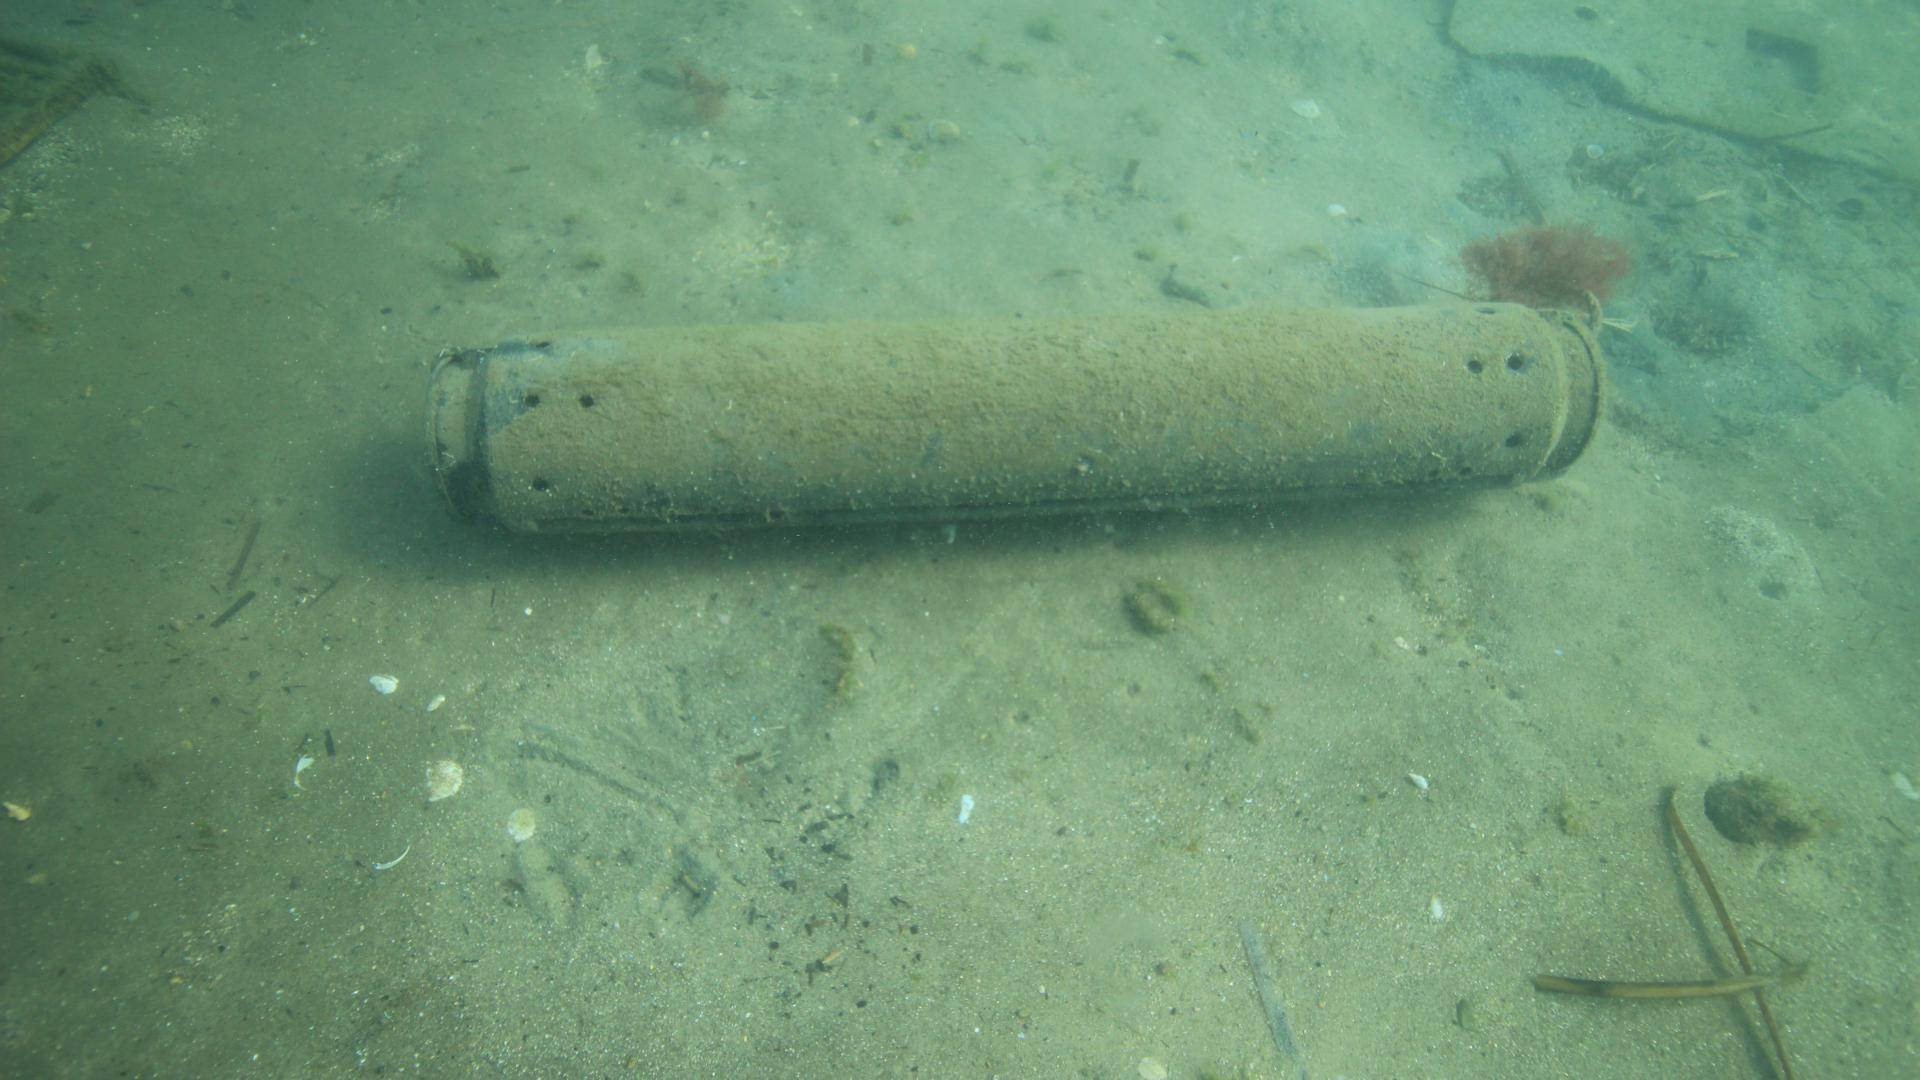eel fish trap: (427, 301, 1602, 535)
